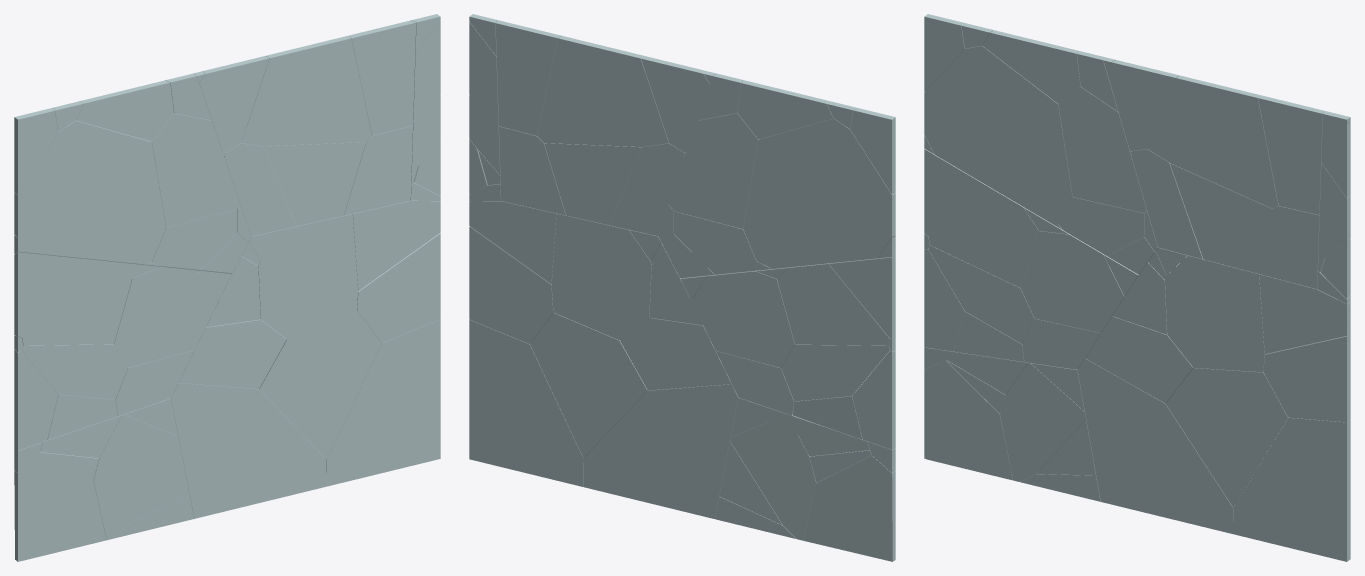
The model's file is glass_debris.fbx.
3 renders of one model, left to right at view 1: azimuth 30°, elevation 25°; view 2: azimuth 150°, elevation 25°; view 3: azimuth 330°, elevation 25°, orthographic.
Parts seen in each view (by area): view 1: Glass_cell.030_cell.003, Glass_cell.028_cell.006, Glass_cell.028_cell.008, Glass_cell.027_cell, Glass_cell.028_cell.002, Glass_cell.028_cell.005, Glass_cell.029_cell.008, Glass_cell.031_cell.007, Glass_cell.030_cell.007, Glass_cell.029_cell.009, Glass_cell.031_cell.003, Glass_cell.027_cell.007 (+29 smaller); view 2: Glass_cell.030_cell.003, Glass_cell.028_cell.006, Glass_cell.028_cell.008, Glass_cell.027_cell, Glass_cell.028_cell.005, Glass_cell.028_cell.002, Glass_cell.030_cell.007, Glass_cell.031_cell.007, Glass_cell.029_cell.008, Glass_cell.028_cell.009, Glass_cell.029_cell.009, Glass_cell.031_cell.003 (+27 smaller); view 3: Glass_cell.030_cell.003, Glass_cell.028_cell.006, Glass_cell.028_cell.008, Glass_cell.027_cell, Glass_cell.028_cell.002, Glass_cell.028_cell.005, Glass_cell.029_cell.008, Glass_cell.031_cell.007, Glass_cell.030_cell.007, Glass_cell.029_cell.009, Glass_cell.028_cell.009, Glass_cell.031_cell.003 (+29 smaller).
Boxes of the visible parts, x1,y1,x2,y2 form: Glass_cell.030_cell.003: (14, 120, 166, 264); Glass_cell.028_cell.006: (171, 383, 326, 518); Glass_cell.028_cell.008: (326, 319, 440, 486); Glass_cell.027_cell: (241, 35, 371, 146); Glass_cell.028_cell.002: (259, 310, 381, 459); Glass_cell.028_cell.005: (258, 214, 358, 339); Glass_cell.029_cell.008: (114, 267, 217, 367); Glass_cell.031_cell.007: (14, 453, 106, 561); Glass_cell.030_cell.007: (152, 113, 240, 227); Glass_cell.029_cell.009: (18, 259, 132, 345); Glass_cell.031_cell.003: (93, 414, 179, 540); Glass_cell.027_cell.007: (263, 142, 365, 226); Glass_cell.030_cell.003: (743, 118, 895, 268); Glass_cell.028_cell.006: (583, 384, 738, 518); Glass_cell.028_cell.008: (469, 319, 583, 486); Glass_cell.027_cell: (537, 36, 668, 146); Glass_cell.028_cell.005: (551, 213, 652, 340); Glass_cell.028_cell.002: (530, 312, 647, 457); Glass_cell.030_cell.007: (669, 113, 759, 228); Glass_cell.031_cell.007: (803, 455, 895, 561); Glass_cell.029_cell.008: (691, 270, 794, 367); Glass_cell.028_cell.009: (469, 227, 553, 343); Glass_cell.029_cell.009: (777, 263, 889, 345); Glass_cell.031_cell.003: (730, 414, 816, 540); Glass_cell.030_cell.003: (924, 45, 1072, 224); Glass_cell.028_cell.006: (1077, 358, 1234, 533); Glass_cell.028_cell.008: (1233, 417, 1350, 561); Glass_cell.027_cell: (1148, 75, 1278, 208); Glass_cell.028_cell.002: (1166, 368, 1287, 507); Glass_cell.028_cell.005: (1165, 255, 1264, 372); Glass_cell.029_cell.008: (1020, 231, 1124, 332); Glass_cell.031_cell.007: (924, 361, 1012, 480); Glass_cell.030_cell.007: (1058, 86, 1146, 212); Glass_cell.029_cell.009: (928, 189, 1038, 287); Glass_cell.028_cell.009: (1263, 327, 1350, 422); Glass_cell.031_cell.003: (1000, 362, 1085, 481).
Bounding box in the file's own units: 400 × 400 × 6.
